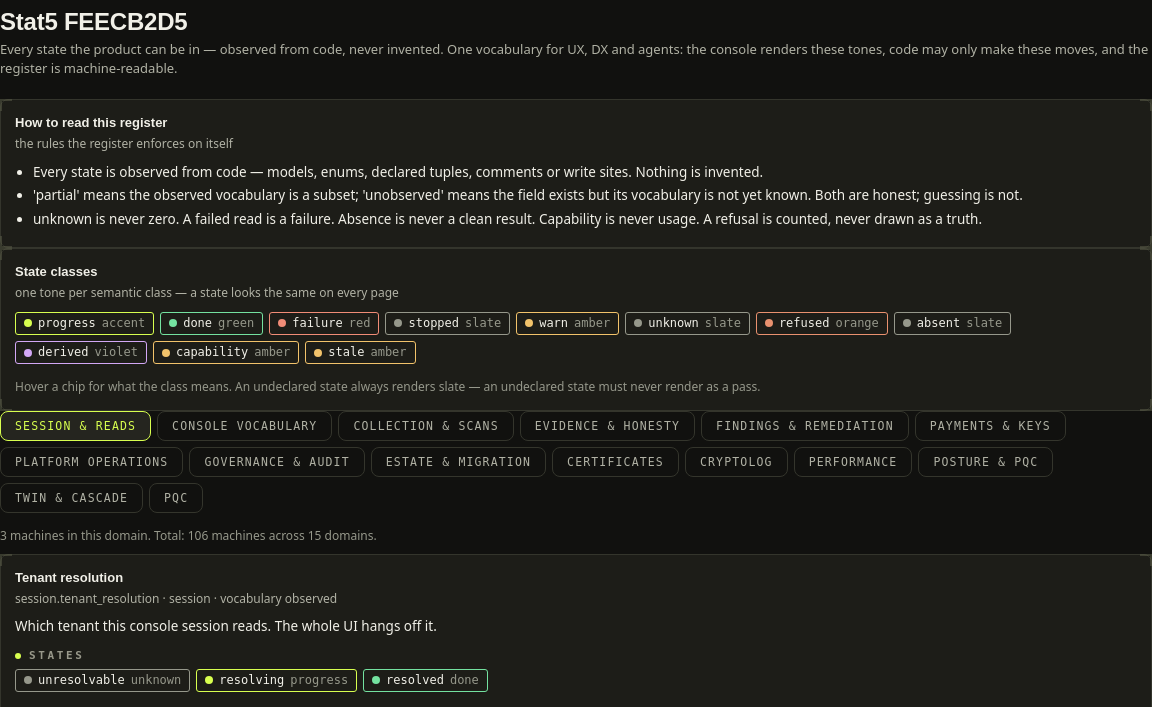
Scenario: State machines explorer › capability never gains an edge into usage — the register draws it that way
The width and height of the screenshot is (1152, 707).
Click the tab "Evidence & honesty" at coordinates (607, 426), box [520,411,695,441]
(page scrolled)
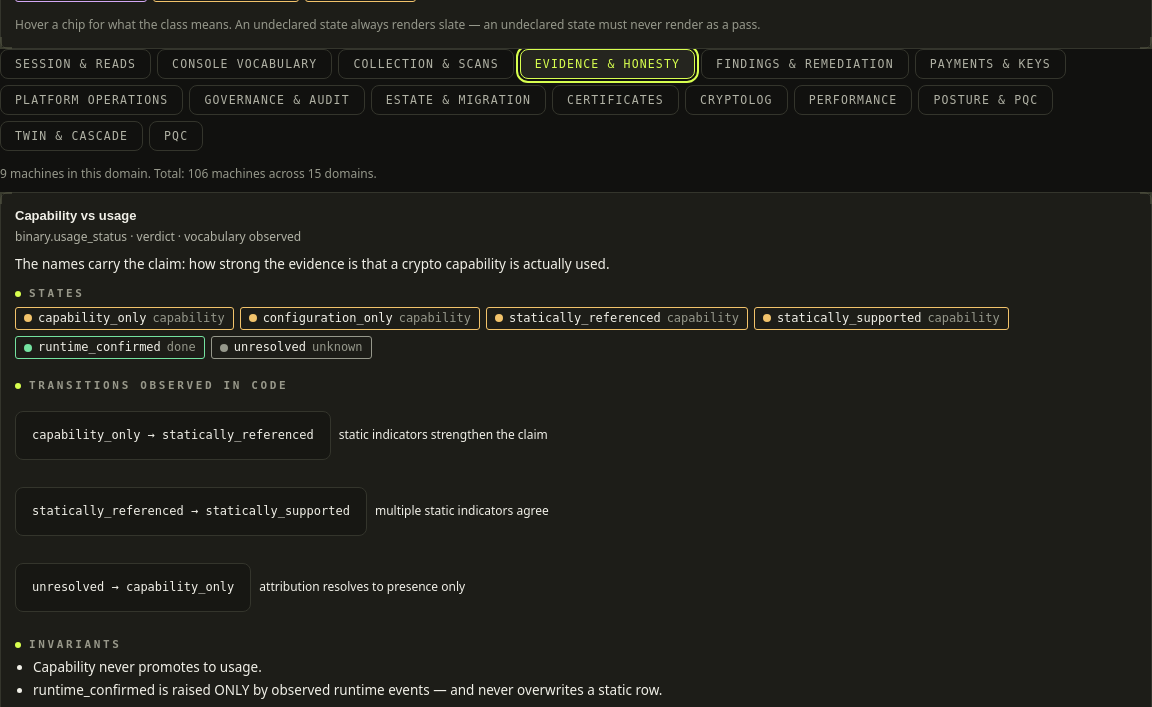
Now the list item "Capability never promotes to usage." is shown, box [33,658,262,676]
Now the text "runtime_confirmed" is shown, box [38,339,161,356]
